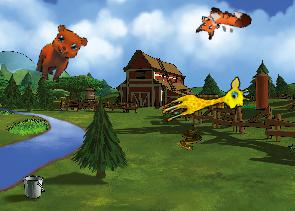bear: (32, 21, 90, 89)
fox: (194, 2, 252, 47)
giraffe: (158, 74, 253, 133)
